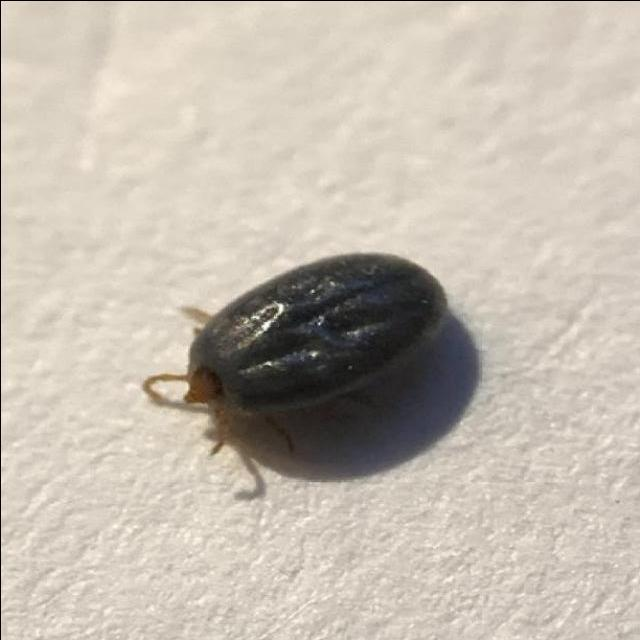Rhipicephalus Sanguineus-F-Fed: (128, 251, 450, 460)
